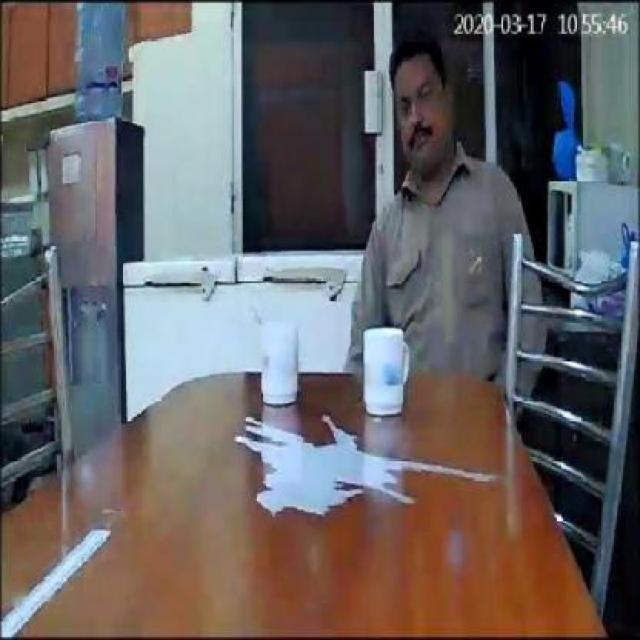spillage: (235, 415, 489, 516)
